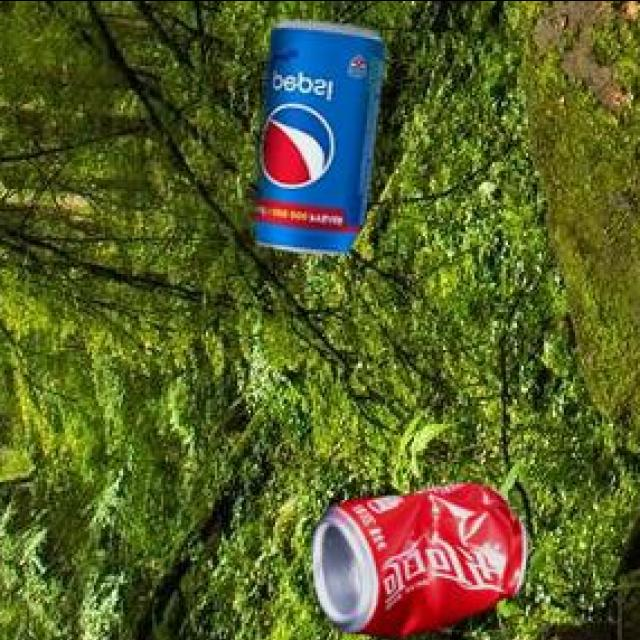logam: (310, 480, 525, 632), (252, 17, 382, 250)
